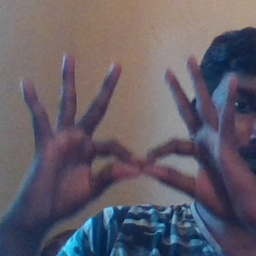B: (77, 113, 212, 204)
